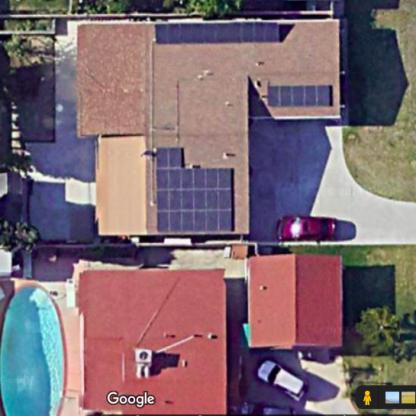car: (258, 354, 313, 401), (274, 213, 343, 246)
solar_panel: (148, 141, 240, 235), (151, 17, 285, 54), (261, 72, 345, 111)
swimming_pool: (1, 266, 72, 416)
